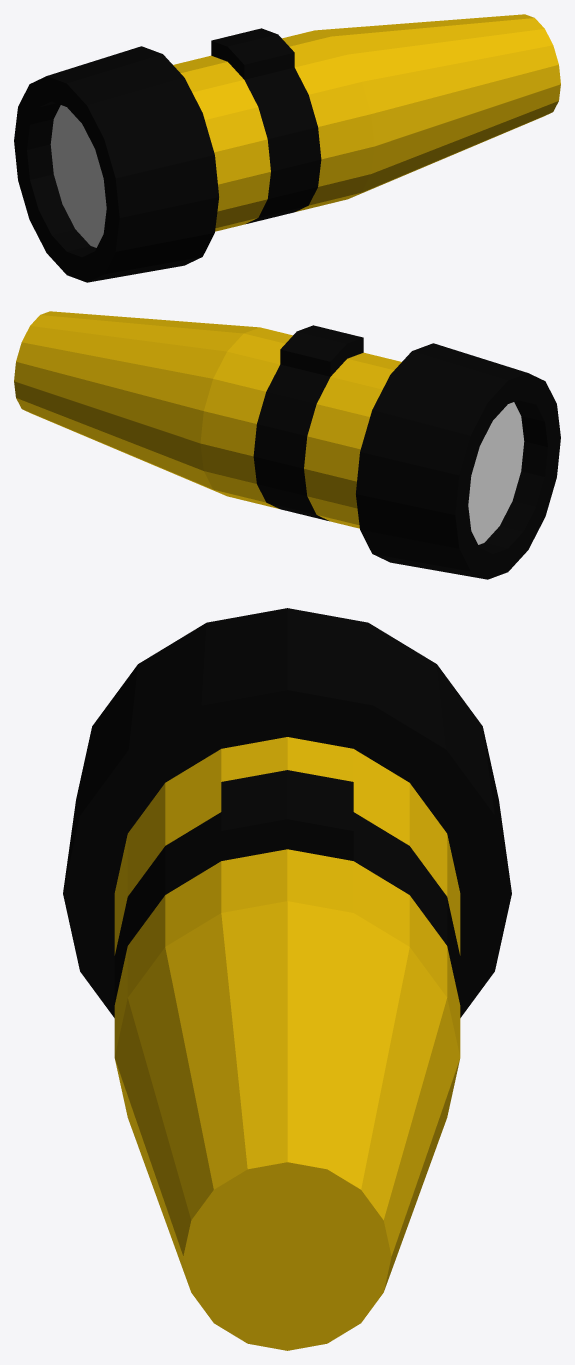
File: Flashlight.fbx
3 views of the same model, one above another, from view 1: azimuth 30°, elevation 25°; view 2: azimuth 150°, elevation 25°; view 3: azimuth 270°, elevation 25° (orthographic). The views are drawn at different scales.
Visible parts, largest first — view 1: Flashlight; view 2: Flashlight; view 3: Flashlight.
Part boxes in pixels (<box>): Flashlight: <box>14,14,560,282</box>; Flashlight: <box>14,311,560,579</box>; Flashlight: <box>63,608,511,1350</box>.
Size of the model in its own units: 0.1876 by 0.0779 by 0.0779.
